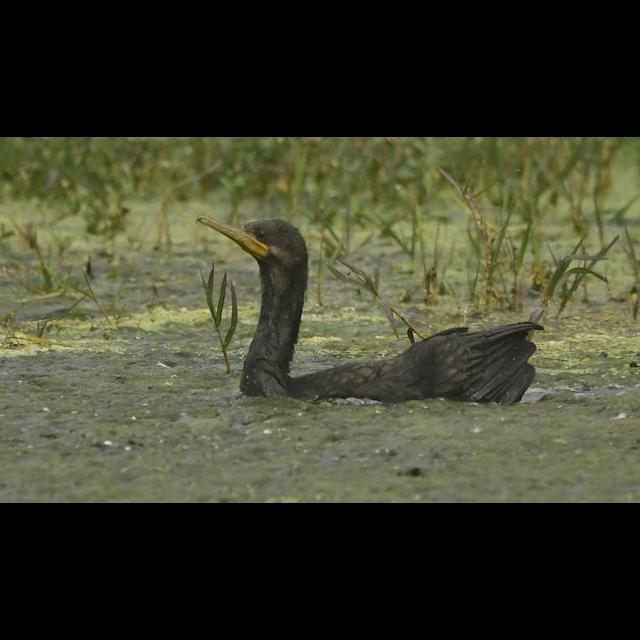cormorant: (193, 216, 539, 404)
